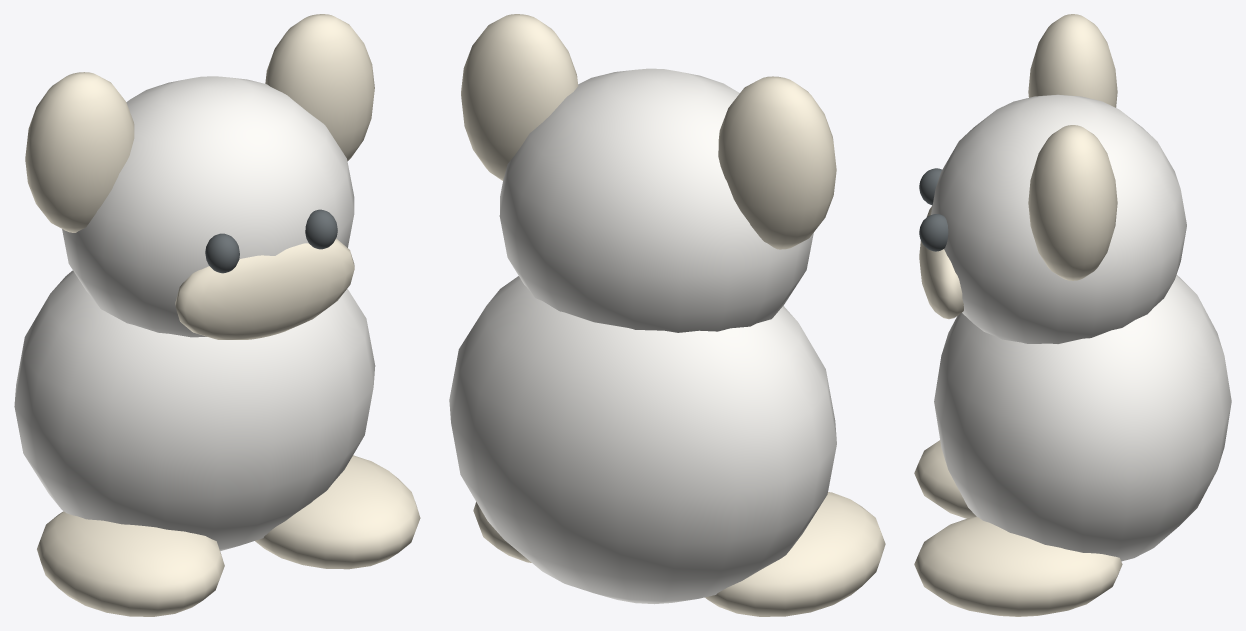
The model's file is candidate.glb.
The picture shows the model from 3 angles, left to right: view 1: azimuth 30°, elevation 25°; view 2: azimuth 150°, elevation 25°; view 3: azimuth 270°, elevation 25°; orthographic projection. The views are drawn at different scales.
Visible parts, largest first — view 1: body, head, foot (×2), ear (×2), muzzle, eye (×2); view 2: body, head, ear (×2), foot (×2); view 3: body, head, ear (×2), foot (×2), muzzle, eye (×2).
Boxes of the visible parts, x1,y1,x2,y2 form: body: (14,270,375,550); head: (62,76,354,337); foot (×2): (37,455,420,616); ear (×2): (25,14,374,232); muzzle: (175,239,354,339); eye (×2): (205,209,337,273); body: (449,276,836,604); head: (499,68,813,332); ear (×2): (461,14,836,249); foot (×2): (473,492,885,616); body: (934,275,1231,561); head: (931,94,1186,343); ear (×2): (1028,14,1117,280); foot (×2): (914,440,1122,616); muzzle: (919,205,963,319); eye (×2): (919,168,948,251).
Bounding box in the file's own units: 0.115 × 0.16 × 0.095.
